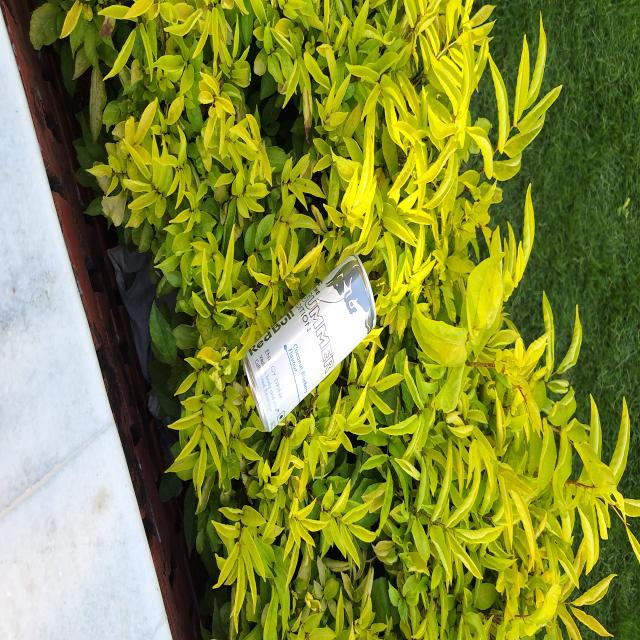Redbull Summer Edition: (245, 249, 378, 432)
